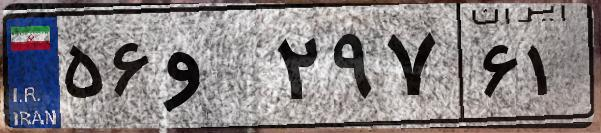1: (525, 38, 570, 115)
2: (270, 28, 330, 110)
5: (57, 26, 110, 100)
6: (475, 38, 525, 113), (110, 28, 158, 98)
7: (385, 28, 445, 110)
9: (330, 28, 385, 110)
و: (158, 20, 270, 120)
